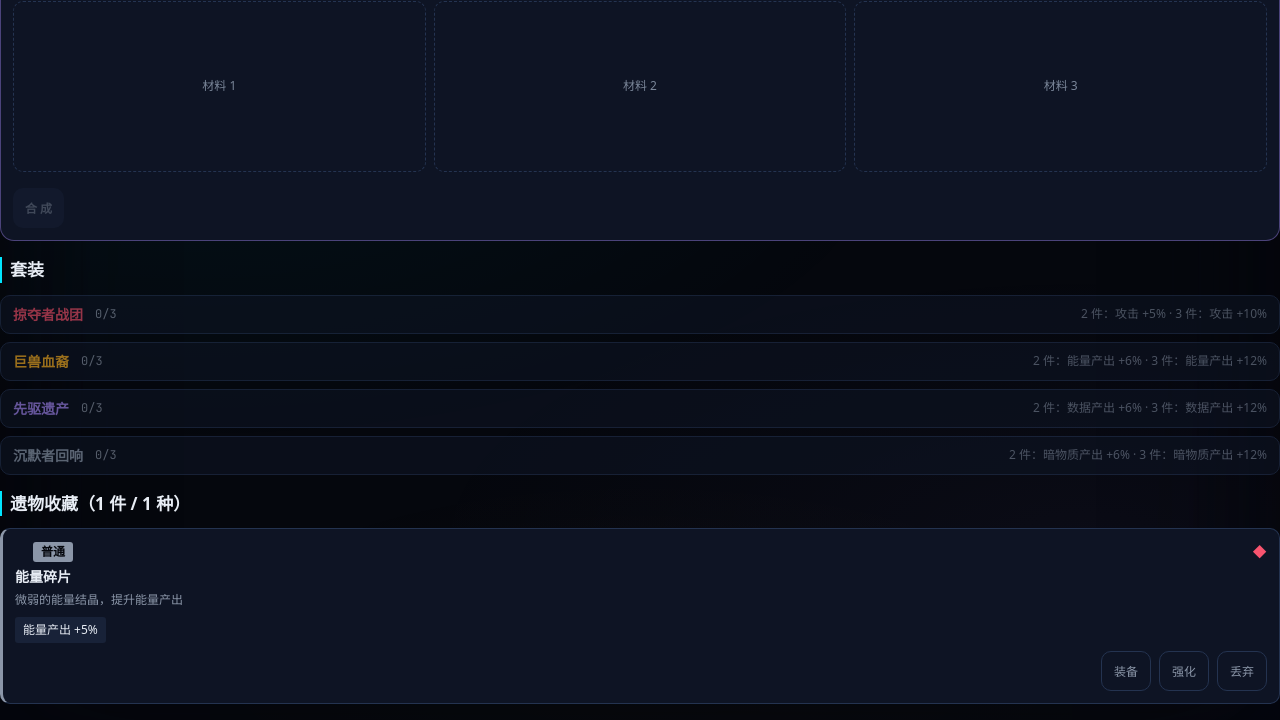
RelicView — 装备与卸下 › 装备遗物产生「当前效果」区块
(page scrolled)
Click the button with test id "equip-button" at (1126, 671), box [1101,651,1151,691]
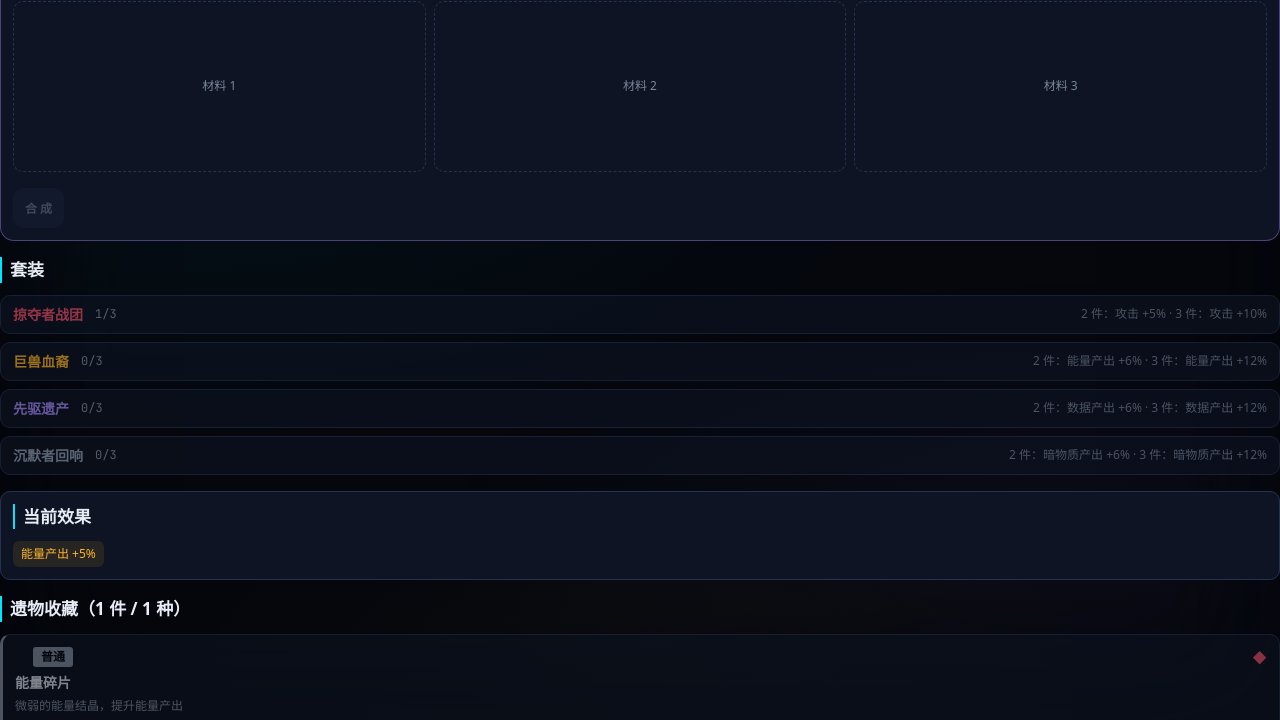
Expected: the element with class "active-effects" is shown, [0,491,1279,580]
Expected: the text "能量产出 +5%" is shown, [13,541,104,567]
